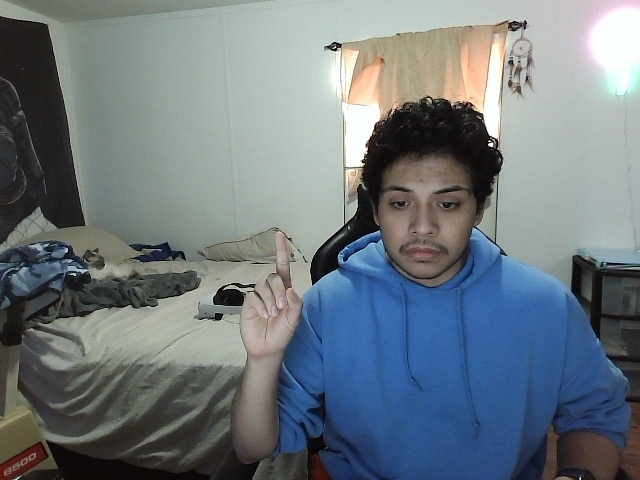D: (236, 228, 308, 359)
